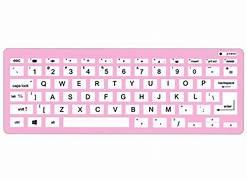keyboard: (2, 47, 244, 134)
